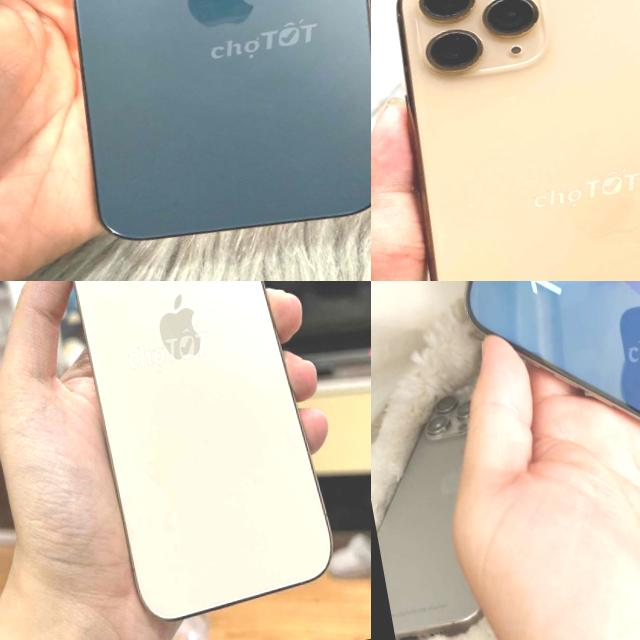gen_11: (371, 0, 640, 281)
gen_12_13: (39, 281, 345, 632), (17, 0, 371, 277)
gen_15: (426, 281, 640, 604)
physical_damage: (574, 376, 620, 426)
